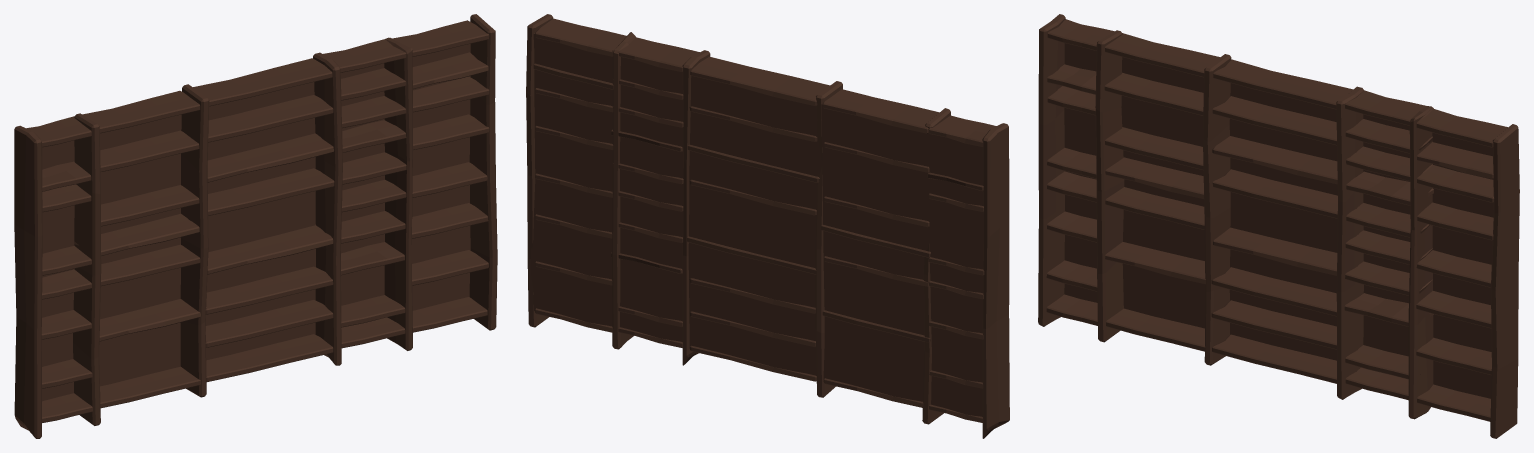
The model's file is bookshelf big 1.fbx.
The picture shows the model from 3 angles, left to right: view 1: azimuth 30°, elevation 25°; view 2: azimuth 150°, elevation 25°; view 3: azimuth 330°, elevation 25°; orthographic projection.
Parts seen in each view (by area): view 1: Plane.004, Cube.089, Cube.087, Cube.075, Cube.088, Cube.074, Cube.086, Cube.095, Cube.118, Cube.117, Cube.092, Cube.114 (+36 smaller); view 2: Plane.004, Cube.089, Cube.095, Cube.086, Cube.088, Cube.094, Cube.074, Cube.087, Cube.105, Cube.075, Cube.085, Cube.109 (+19 smaller); view 3: Plane.004, Cube.088, Cube.075, Cube.087, Cube.089, Cube.074, Cube.086, Cube.095, Cube.114, Cube.117, Cube.118, Cube.092 (+36 smaller).
Part boxes in pixels (x1,y1,x2,y2): Plane.004: [41, 44, 470, 401]; Cube.089: [14, 125, 42, 438]; Cube.087: [180, 84, 209, 397]; Cube.075: [73, 113, 101, 425]; Cube.088: [469, 14, 497, 330]; Cube.074: [313, 52, 342, 365]; Cube.086: [384, 37, 412, 350]; Cube.095: [193, 58, 332, 106]; Cube.118: [205, 300, 333, 347]; Cube.117: [205, 266, 333, 314]; Cube.092: [206, 334, 333, 381]; Cube.114: [208, 168, 334, 215]; Plane.004: [531, 33, 983, 416]; Cube.089: [982, 123, 1009, 438]; Cube.095: [690, 56, 829, 105]; Cube.086: [612, 32, 635, 349]; Cube.088: [526, 14, 553, 327]; Cube.094: [823, 89, 939, 133]; Cube.074: [682, 50, 710, 365]; Cube.087: [815, 81, 842, 397]; Cube.105: [535, 18, 626, 56]; Cube.075: [922, 108, 950, 424]; Cube.085: [612, 37, 699, 72]; Cube.109: [928, 115, 996, 146]; Plane.004: [1064, 43, 1493, 398]; Cube.088: [1490, 124, 1519, 438]; Cube.075: [1095, 30, 1124, 342]; Cube.087: [1203, 54, 1231, 365]; Cube.089: [1038, 14, 1065, 326]; Cube.074: [1336, 86, 1363, 399]; Cube.086: [1408, 106, 1433, 419]; Cube.095: [1213, 59, 1352, 109]; Cube.114: [1212, 169, 1337, 218]; Cube.117: [1211, 267, 1336, 316]; Cube.118: [1211, 300, 1336, 349]; Cube.092: [1212, 334, 1336, 383].
Bounding box in the file's own units: 956 × 597 × 84.33.
